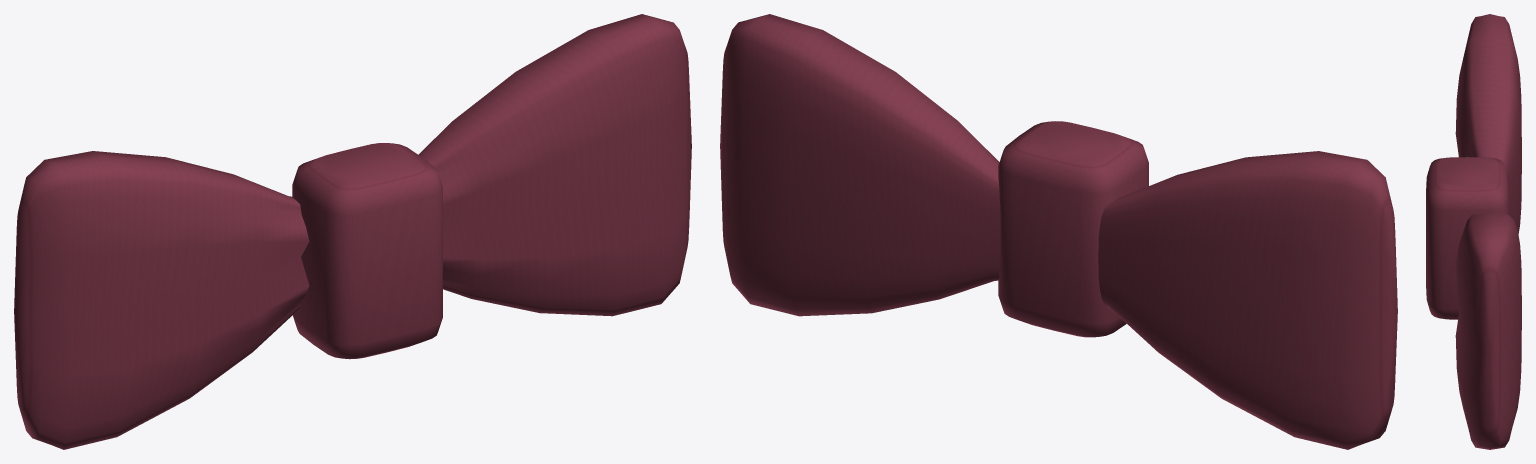
Rendered from KD_BowTie_Optimized.fbx.
The picture shows the model from 3 angles, left to right: view 1: azimuth 30°, elevation 25°; view 2: azimuth 150°, elevation 25°; view 3: azimuth 270°, elevation 25°; orthographic projection. The views are drawn at different scales.
Visible parts, largest first — view 1: KD_BowTie_Optimized; view 2: KD_BowTie_Optimized; view 3: KD_BowTie_Optimized.
Boxes of the visible parts, left/top/right/bottom form: KD_BowTie_Optimized: left=14, top=14, right=691, bottom=449; KD_BowTie_Optimized: left=720, top=14, right=1397, bottom=449; KD_BowTie_Optimized: left=1426, top=14, right=1521, bottom=449.
Size of the model in its own units: 0.186 by 0.074 by 0.03.
1 material, 1 textured.
